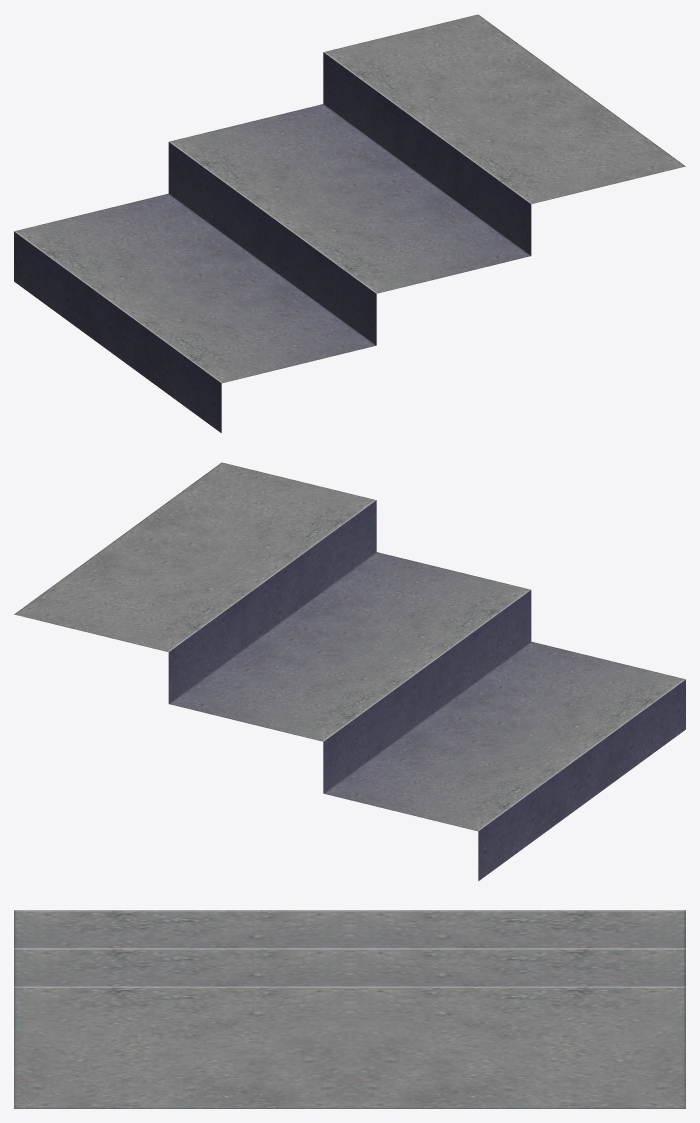
3 views of the same model, one above another, from view 1: azimuth 30°, elevation 25°; view 2: azimuth 150°, elevation 25°; view 3: azimuth 270°, elevation 25° (orthographic). The views are drawn at different scales.
Visible parts, largest first — view 1: Joint_0_Object_0; view 2: Joint_0_Object_0; view 3: Joint_0_Object_0.
Part boxes in pixels (box(x1,y1,x2,y2)): Joint_0_Object_0: box(14, 14, 685, 432); Joint_0_Object_0: box(14, 462, 685, 880); Joint_0_Object_0: box(14, 910, 685, 1108).
Bounding box in the file's own units: 2896 × 917 × 2245.
Materials: 1 (1 with a texture image).
